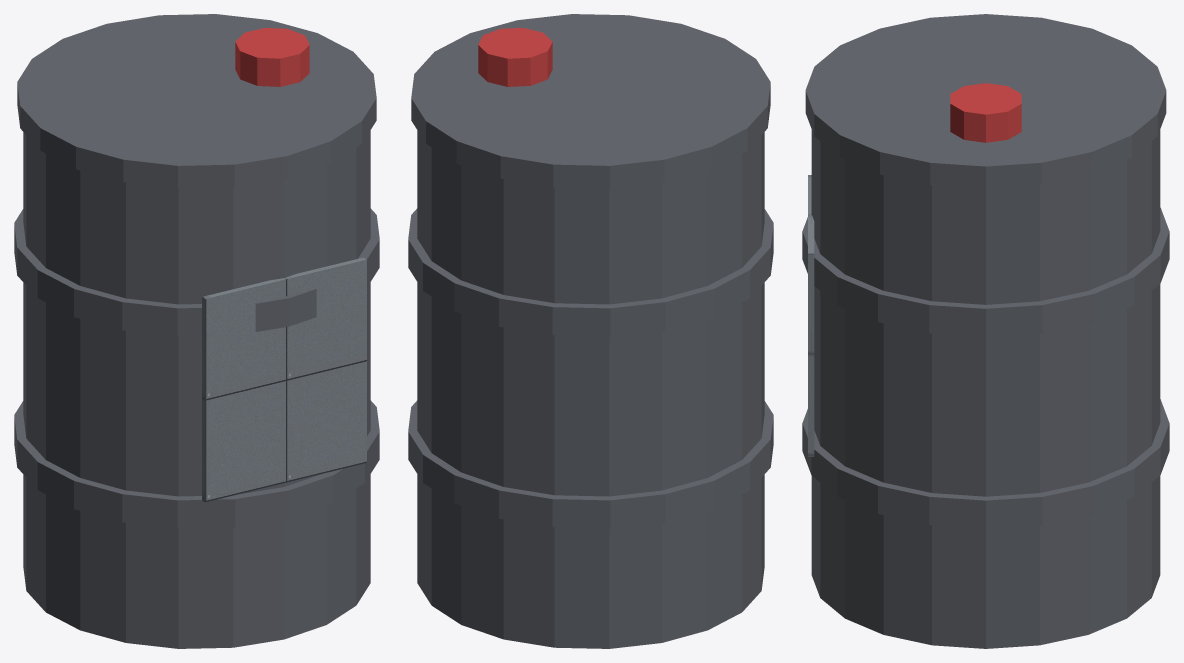
File: fire-and-emergency-services-foam-drum-49defeec__29909.glb
The picture shows the model from 3 angles, left to right: view 1: azimuth 30°, elevation 25°; view 2: azimuth 150°, elevation 25°; view 3: azimuth 270°, elevation 25°; orthographic projection.
Visible parts, largest first — view 1: foam-drum; view 2: foam-drum; view 3: foam-drum.
Part boxes in pixels (<box>): foam-drum: <box>14,14,379,648</box>; foam-drum: <box>408,14,773,648</box>; foam-drum: <box>802,14,1169,648</box>.
Bounding box in the file's own units: 0.59 × 0.91 × 0.59.
3 materials, 1 textured.
